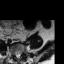CCS_normal: (17, 51, 19, 60)
LFS_stenosis: (21, 48, 23, 55)
LLS_normal: (19, 51, 21, 59)
RFS_severe_stenosis: (13, 50, 15, 57)
RLS_normal: (15, 51, 17, 59)
